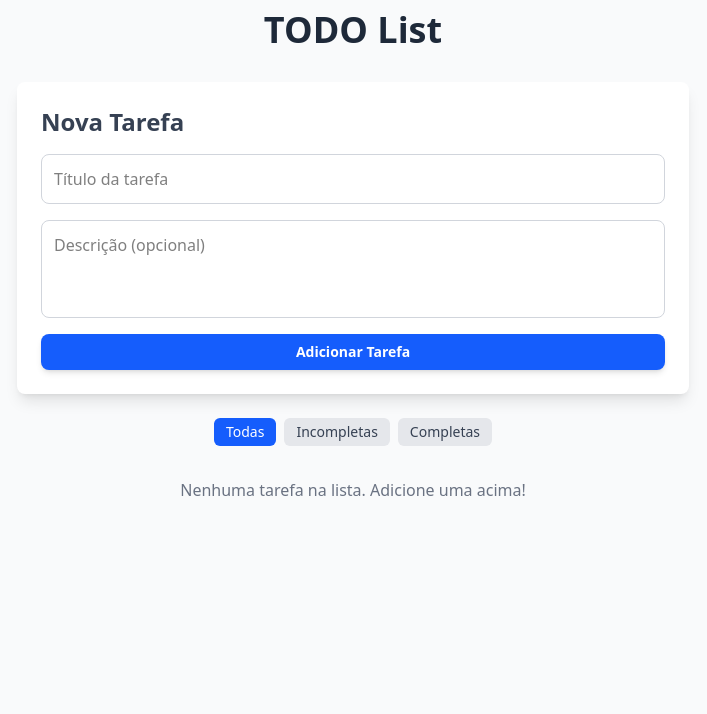
Test: Home Page Integration Test › should allow a user to edit a task
Type "Comprar pão" into the field with placeholder "Título da tarefa". click: (353, 179)
box: x1=41 y1=154 x2=665 y2=204
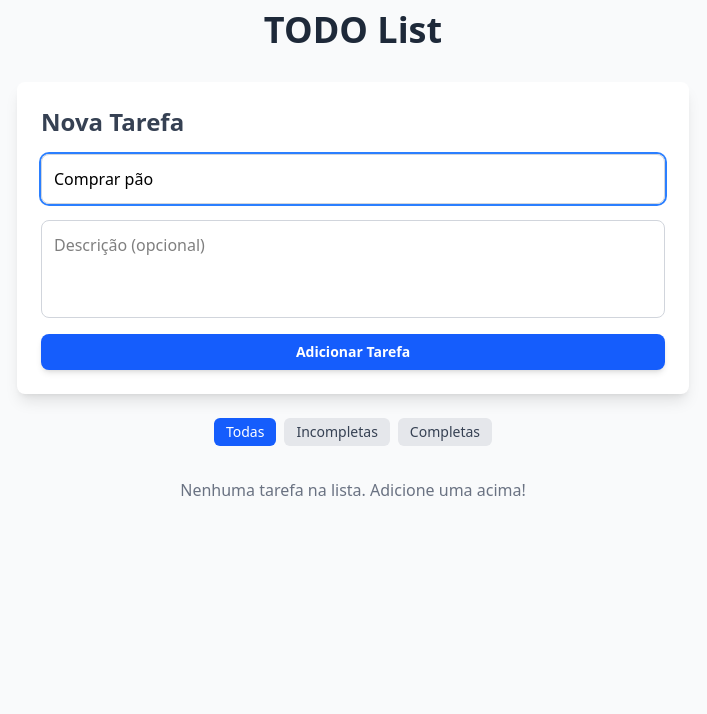
Click the button "Adicionar Tarefa". click: click(353, 352)
box: x1=41 y1=334 x2=665 y2=370
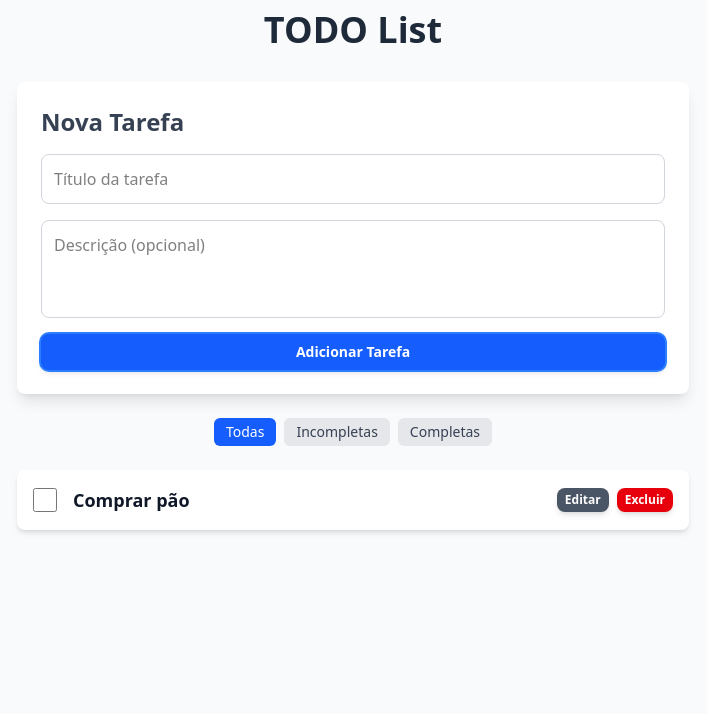
Click the button "Editar". click: click(583, 500)
box: x1=557 y1=488 x2=609 y2=512
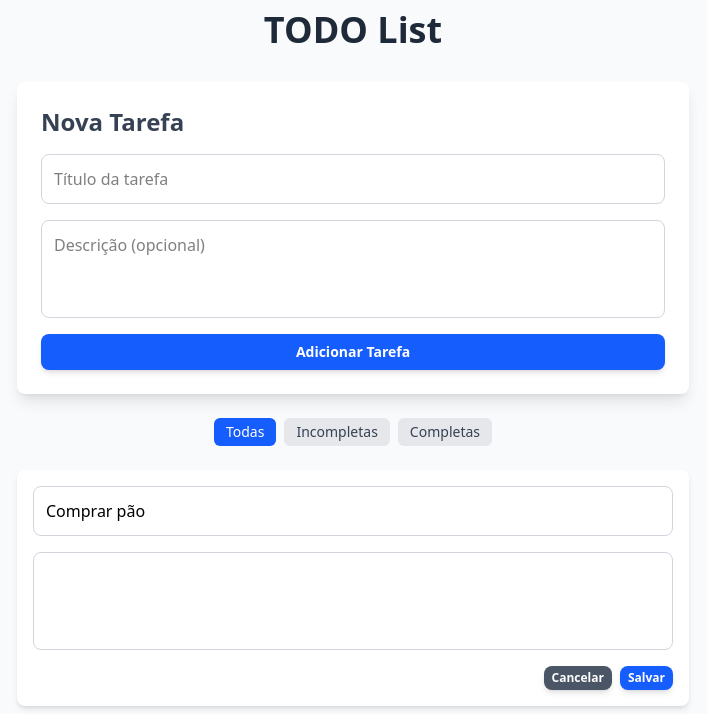
Expected: the field showing "Comprar pão" is shown
Expected: the button "Salvar" is shown, x1=620 y1=666 x2=673 y2=690
Replace the text in the field showing "Comprar pão" with "Comprar pão integral". click: (353, 511)
box: x1=33 y1=486 x2=673 y2=536
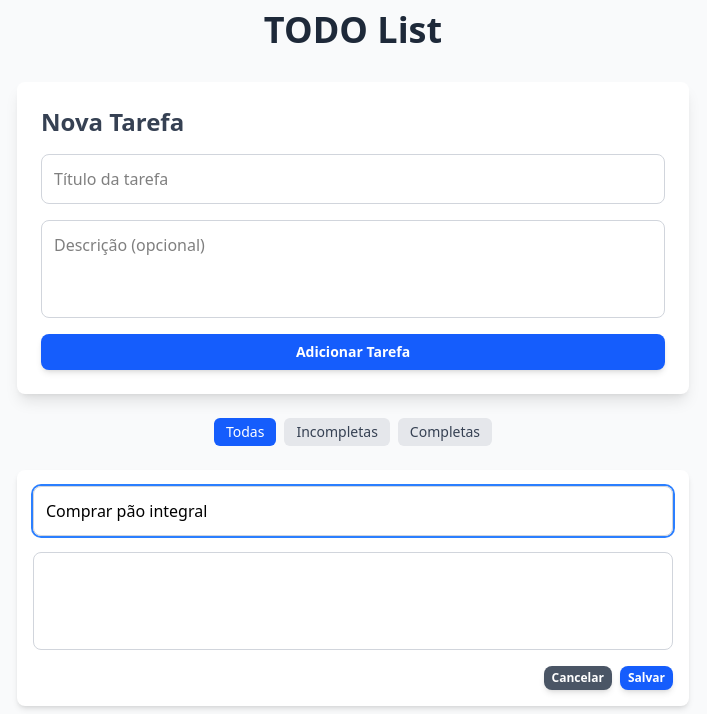
Type "Na padaria da esquina" into the 2nd text box. click: (353, 601)
box: x1=33 y1=552 x2=673 y2=650
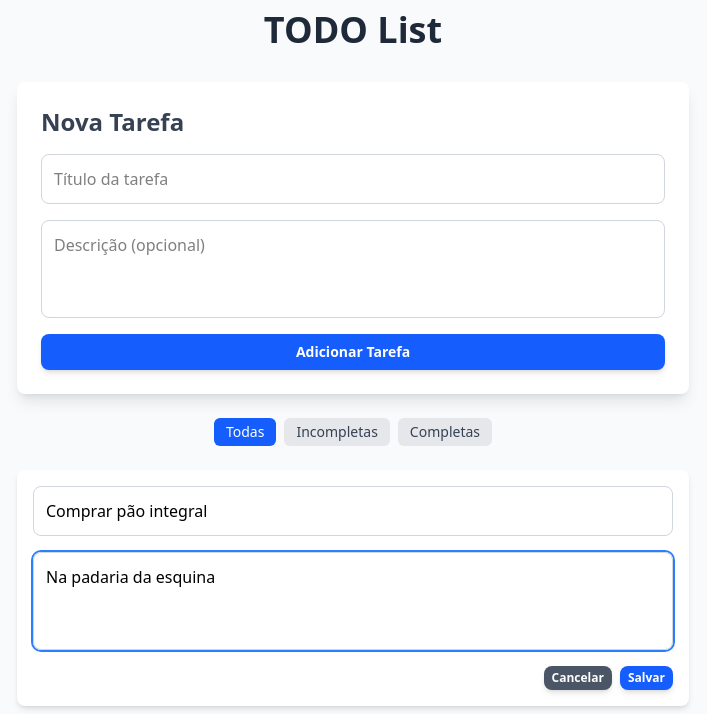
Click the button "Salvar". click: click(646, 678)
box: x1=620 y1=666 x2=673 y2=690
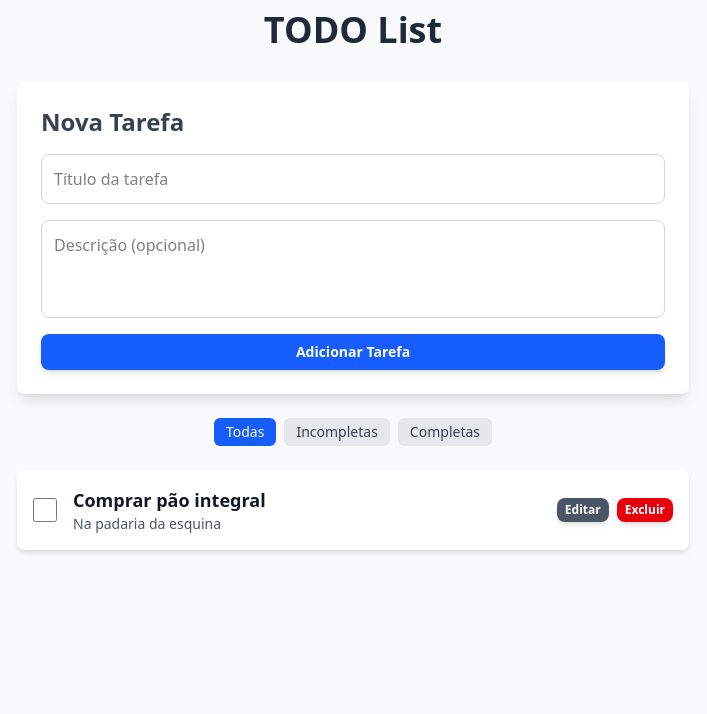
Expected: the heading "Comprar pão integral" is shown, x1=73 y1=486 x2=266 y2=514
Expected: the text "Na padaria da esquina" is shown, x1=73 y1=514 x2=221 y2=533
